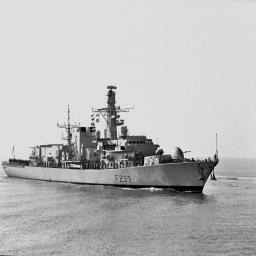Fragata: (1, 84, 220, 195)
